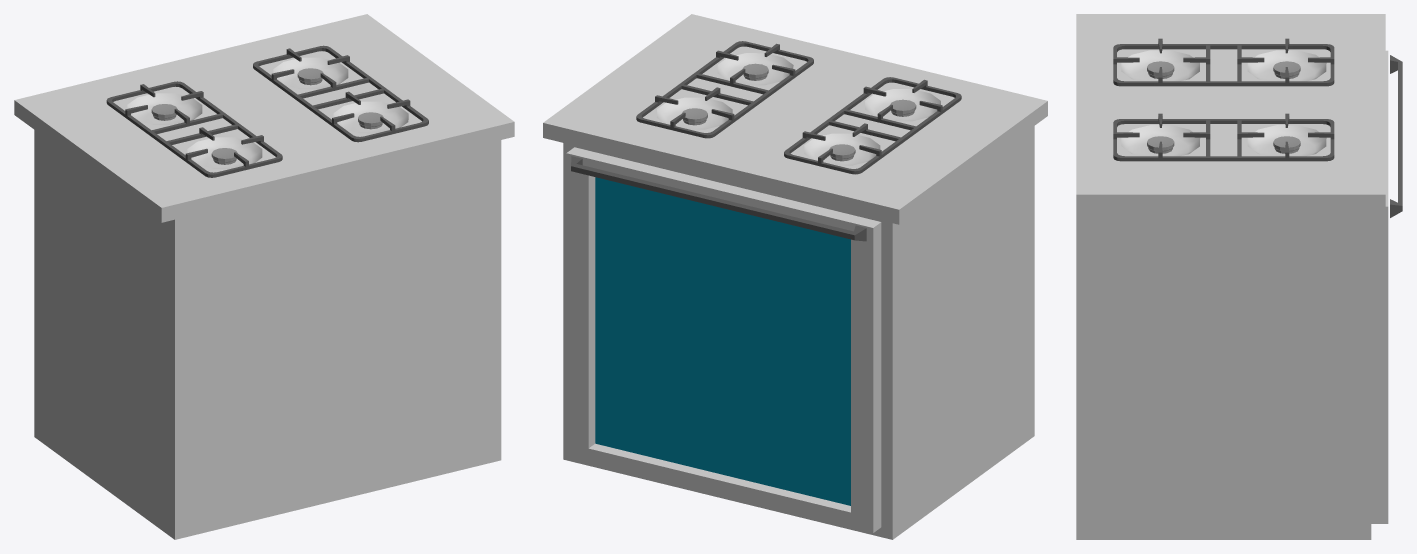
The model's file is Oven.fbx.
The picture shows the model from 3 angles, left to right: view 1: azimuth 30°, elevation 25°; view 2: azimuth 150°, elevation 25°; view 3: azimuth 270°, elevation 25°; orthographic projection. The views are drawn at different scales.
Visible parts, largest first — view 1: Oven; view 2: Oven, OvenDoor; view 3: Oven, OvenDoor.
Boxes of the visible parts, x1,y1,x2,y2 form: Oven: (14, 14, 514, 539); Oven: (543, 14, 1047, 539); OvenDoor: (566, 147, 881, 532); Oven: (1076, 14, 1385, 539); OvenDoor: (1371, 50, 1402, 523).
Size of the model in its own units: 115 by 107 by 87.87.
